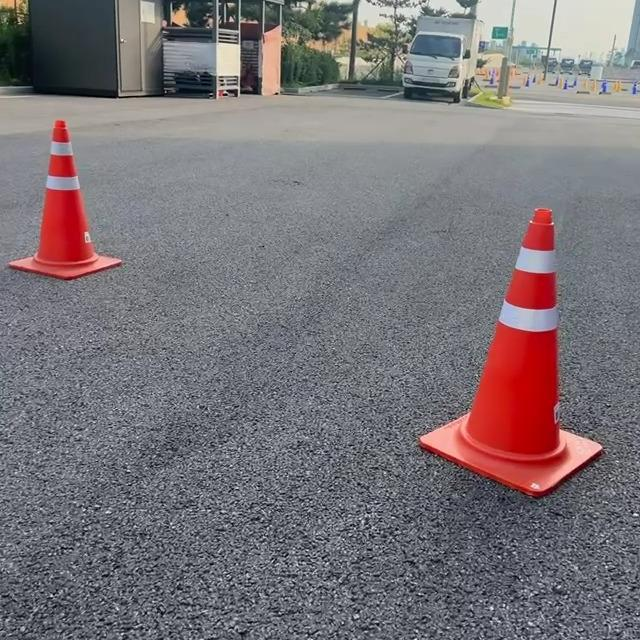fallen_object: (362, 165, 611, 544), (0, 101, 137, 307)
